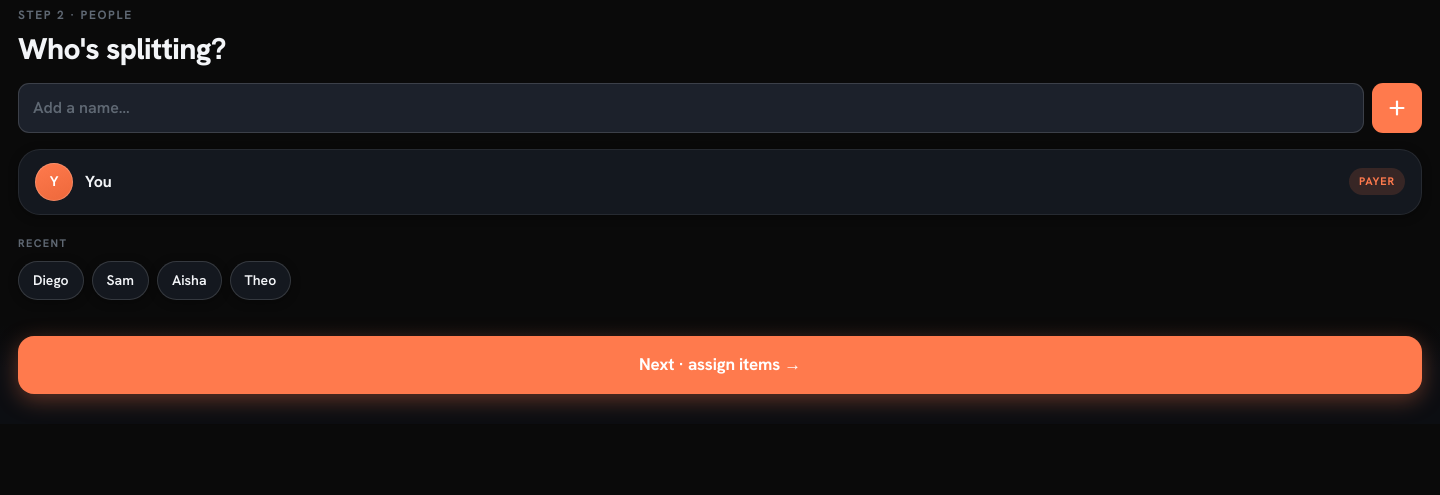
Test case: <PeopleScreen /> › adding a name via Enter key adds person to the store
This screenshot has width=1440, height=495.
Type "Bob" into the field labelled "Add a name…".
click(691, 108); type("Bob")  # box [18,82,1364,132]
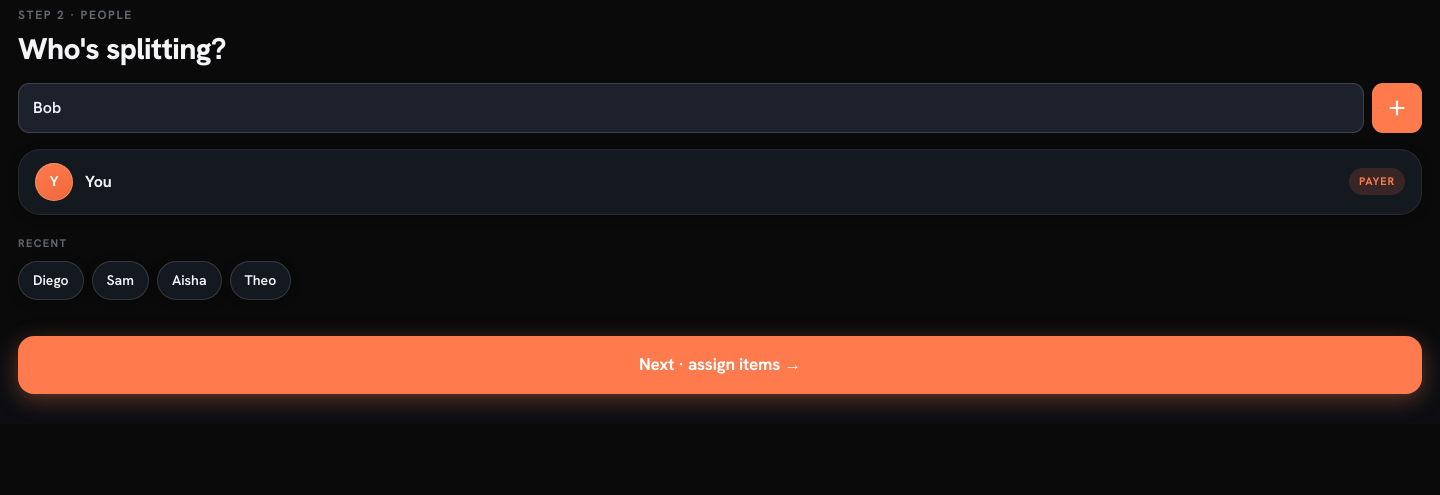
Press Enter in the field named "Add a name", box [18,82,1364,132]
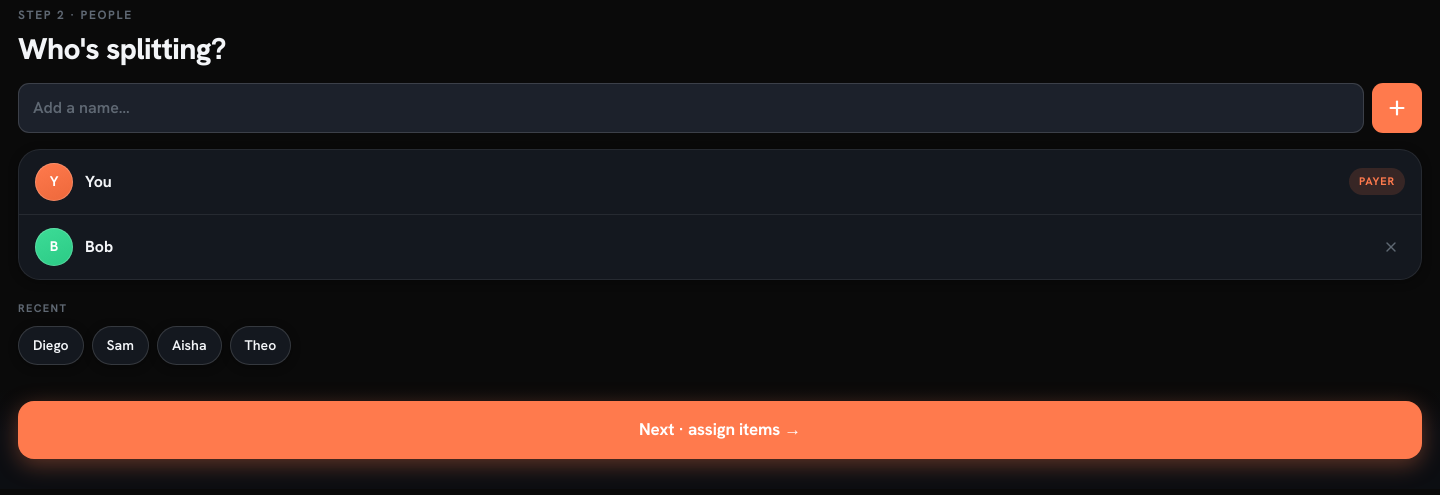
Check: the text "Bob" is shown, box [85,236,113,256]
